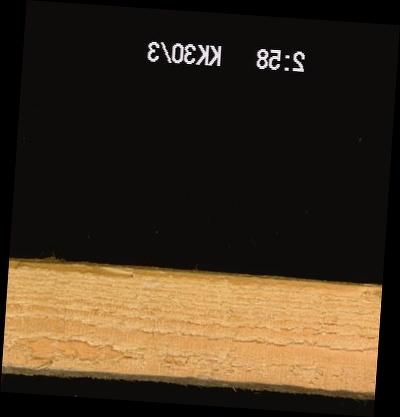wave: (7, 263, 381, 289)
